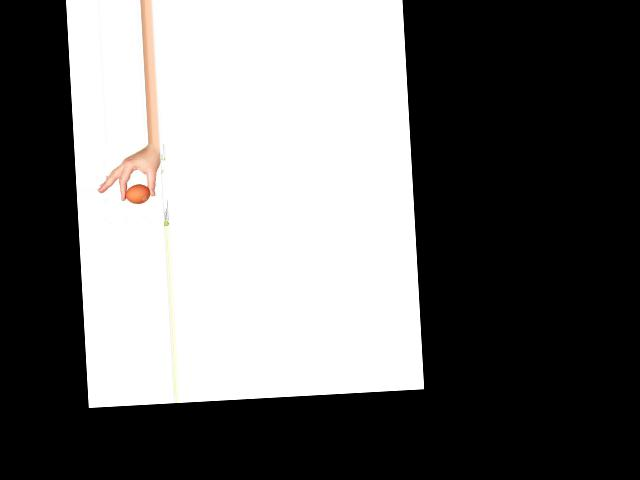egg: (125, 183, 151, 204)
